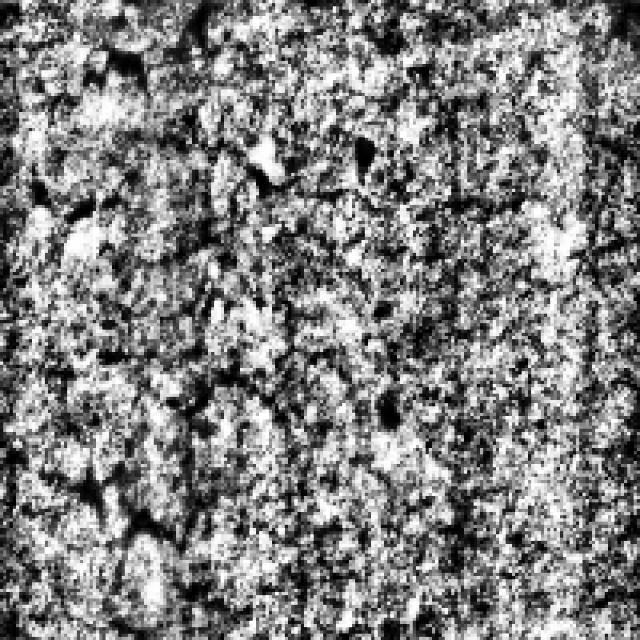Pitted_Surface: (26, 96, 436, 317), (35, 330, 301, 592)
